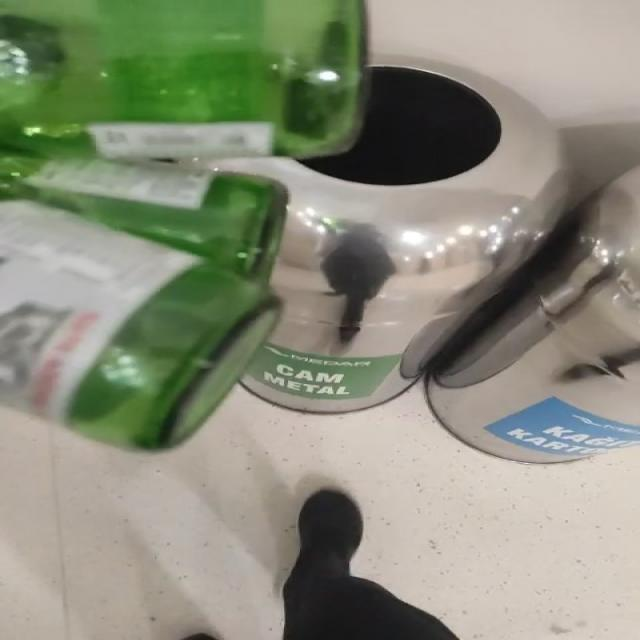glass: (1, 0, 363, 450)
